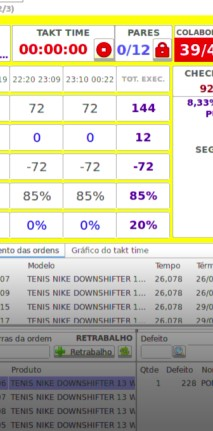takt_time: (13, 25, 94, 60)
